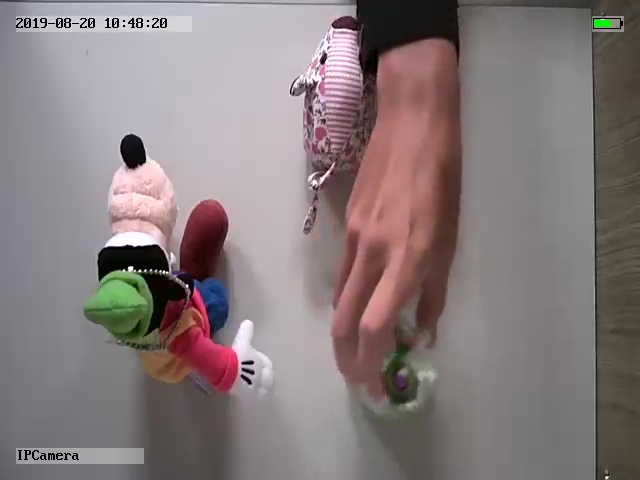goofy: (80, 129, 277, 406)
pig: (290, 16, 379, 234)
